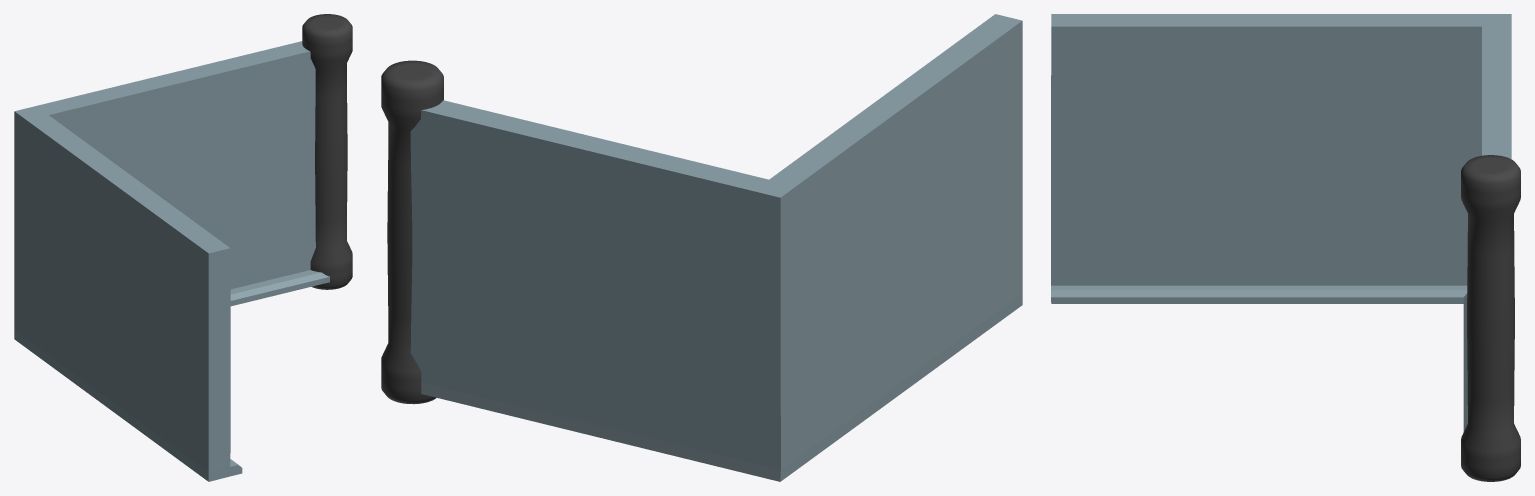
The model's file is medium wall corner 1 pillar.fbx.
The picture shows the model from 3 angles, left to right: view 1: azimuth 30°, elevation 25°; view 2: azimuth 150°, elevation 25°; view 3: azimuth 270°, elevation 25°; orthographic projection. The views are drawn at different scales.
Visible parts, largest first — view 1: Corner_wall_medium_1_pillar; view 2: Corner_wall_medium_1_pillar; view 3: Corner_wall_medium_1_pillar.
Part boxes in pixels (x1,y1,x2,y2): Corner_wall_medium_1_pillar: [14, 14, 352, 481]; Corner_wall_medium_1_pillar: [381, 14, 1022, 481]; Corner_wall_medium_1_pillar: [1051, 14, 1520, 481].
Size of the model in its own units: 1168 by 881 by 1229.
